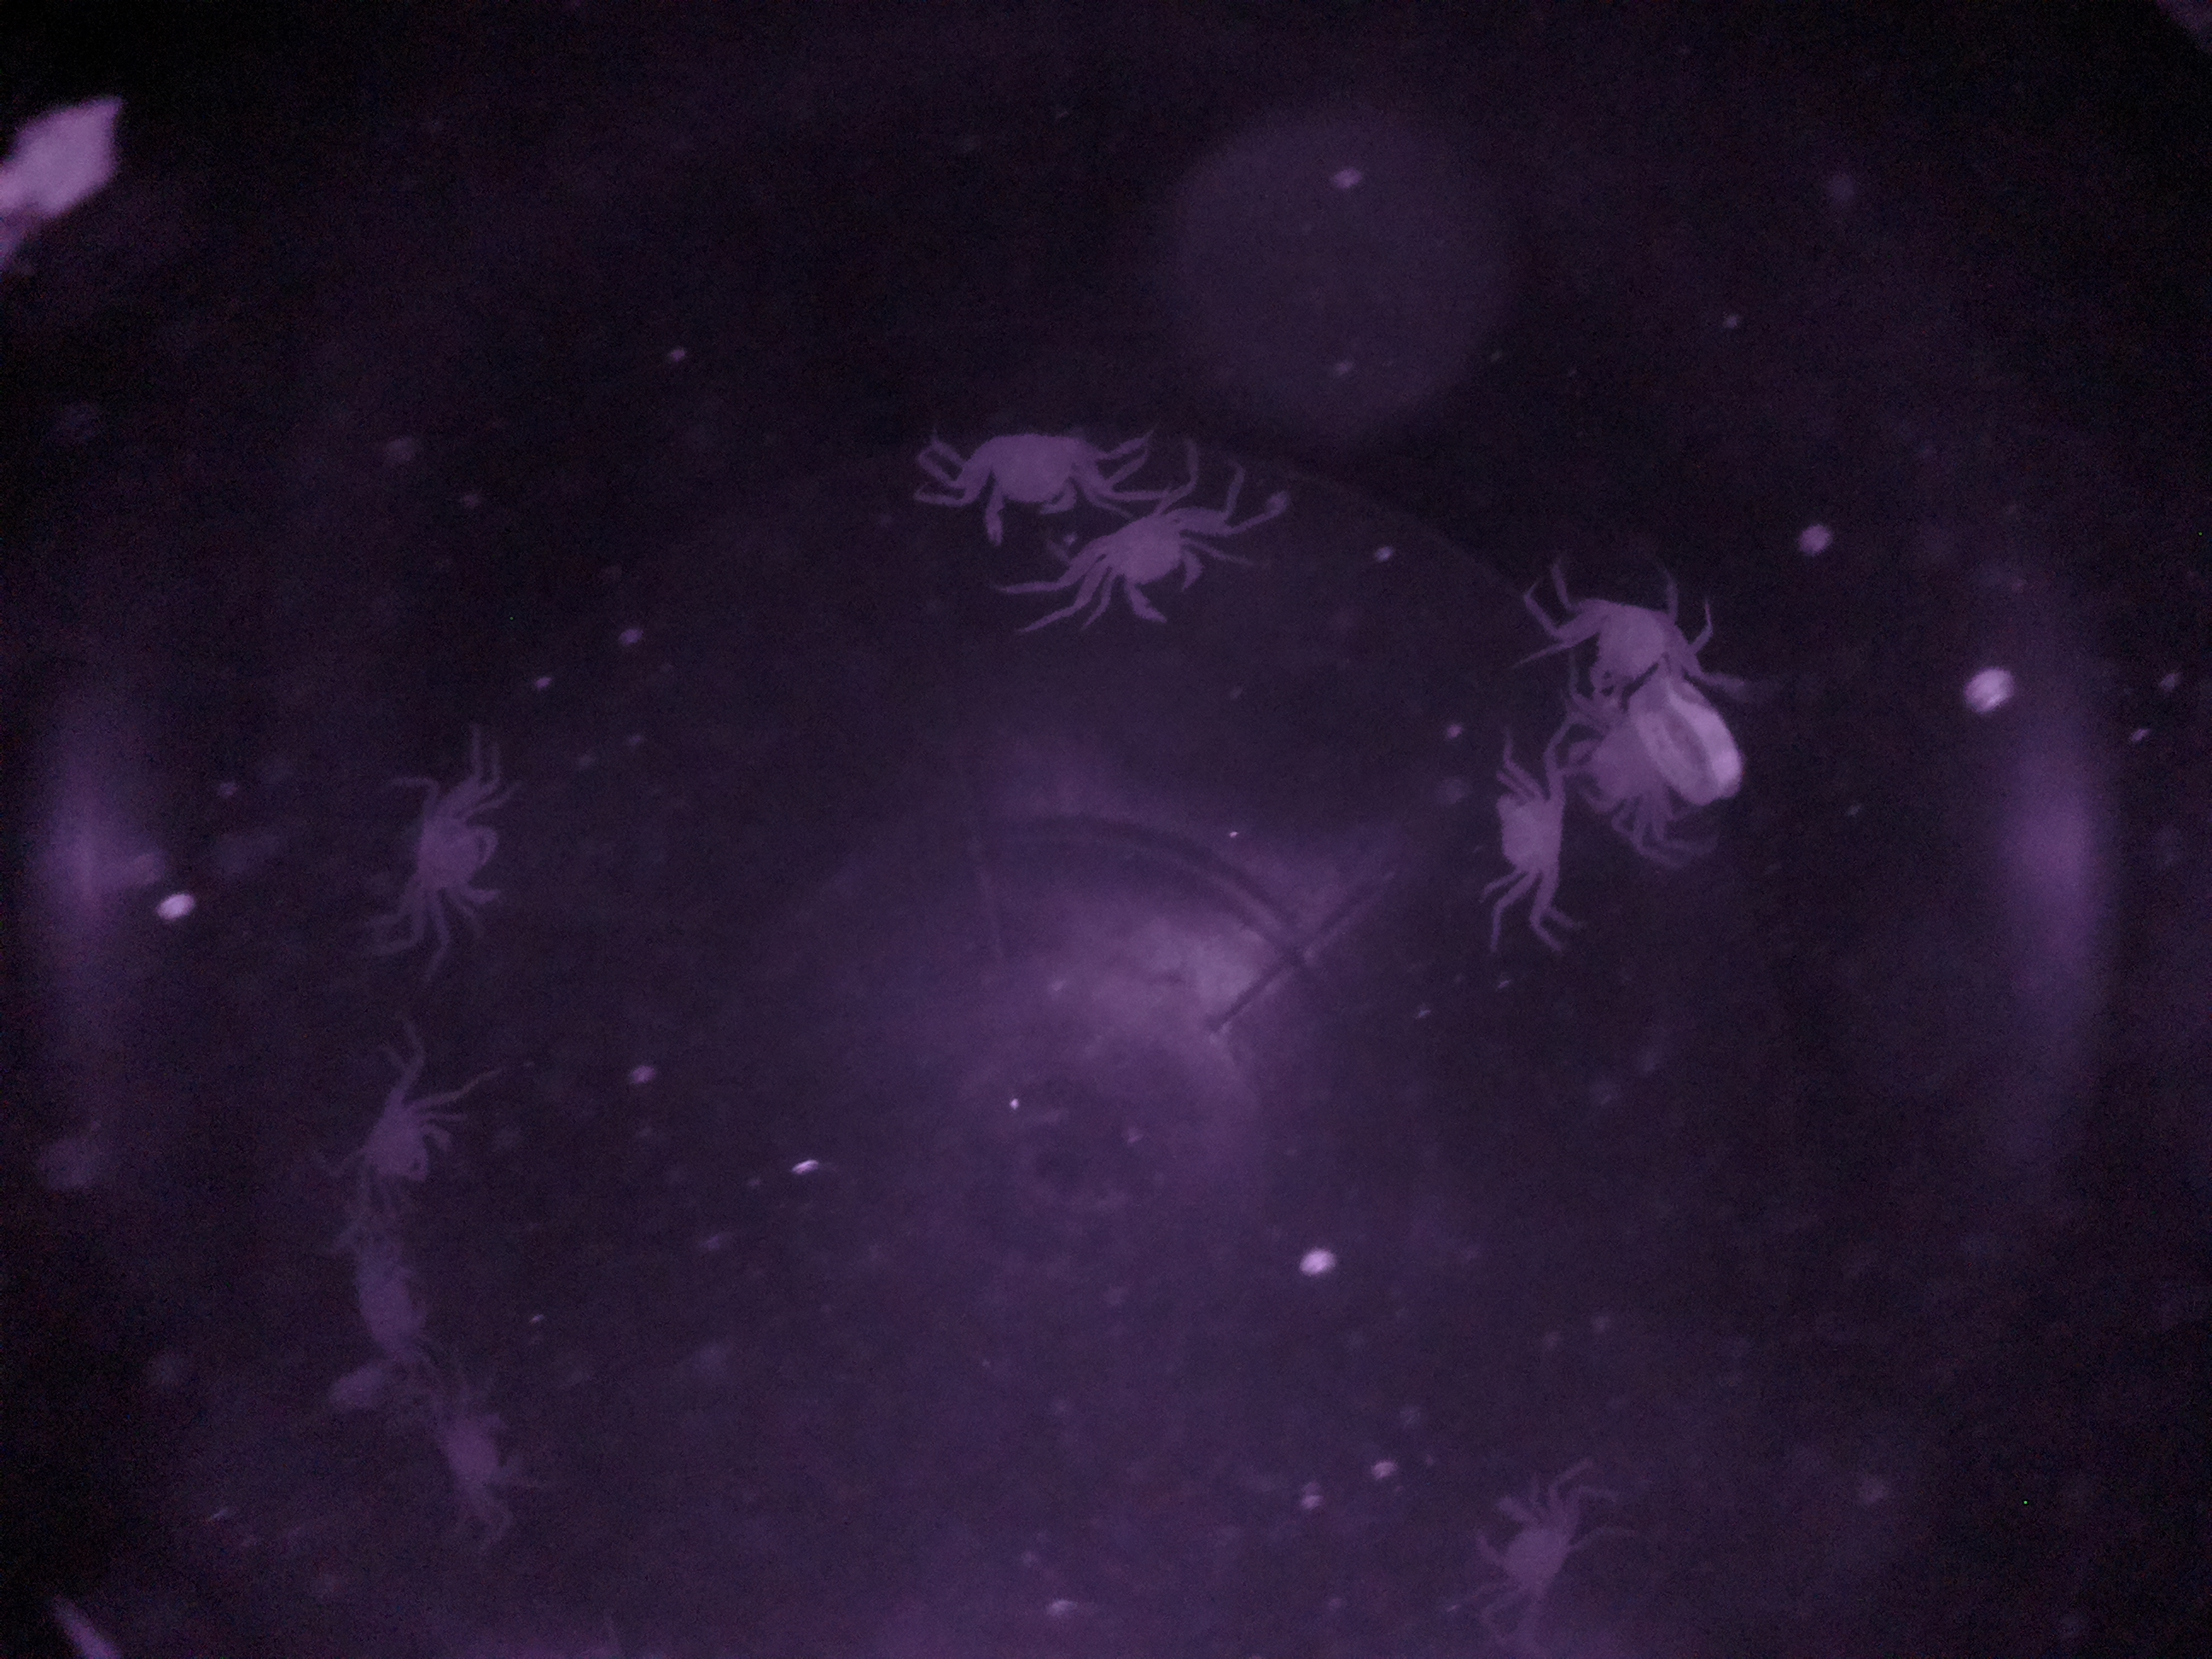Crab: (368, 748, 535, 957), (1425, 1464, 1615, 1638), (1461, 711, 1587, 972), (928, 394, 1122, 547), (1040, 516, 1256, 627)
